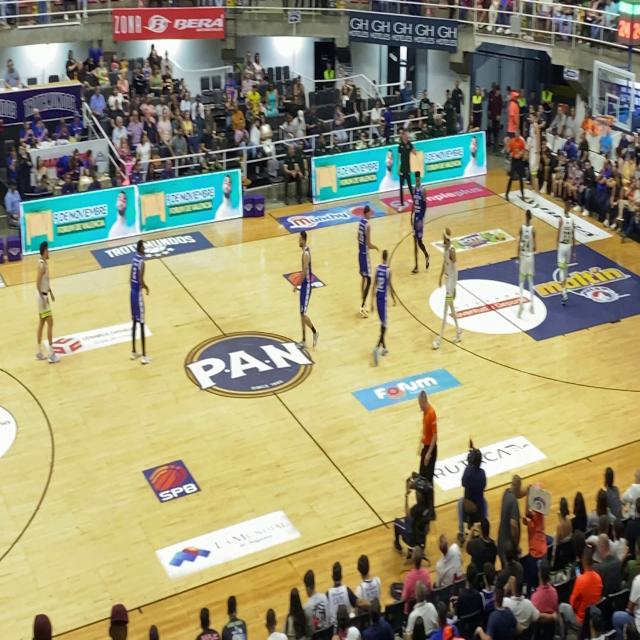team2: (121, 230, 151, 360), (369, 242, 399, 366), (406, 163, 436, 269), (348, 198, 374, 312)
ubasket: (596, 113, 612, 140)
